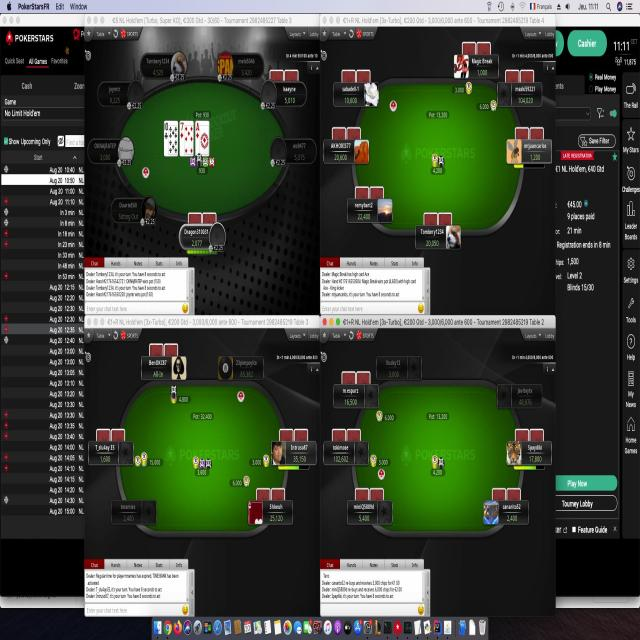10C: (162, 121, 170, 142)
7D: (180, 121, 184, 139)
AD: (194, 120, 201, 140)
